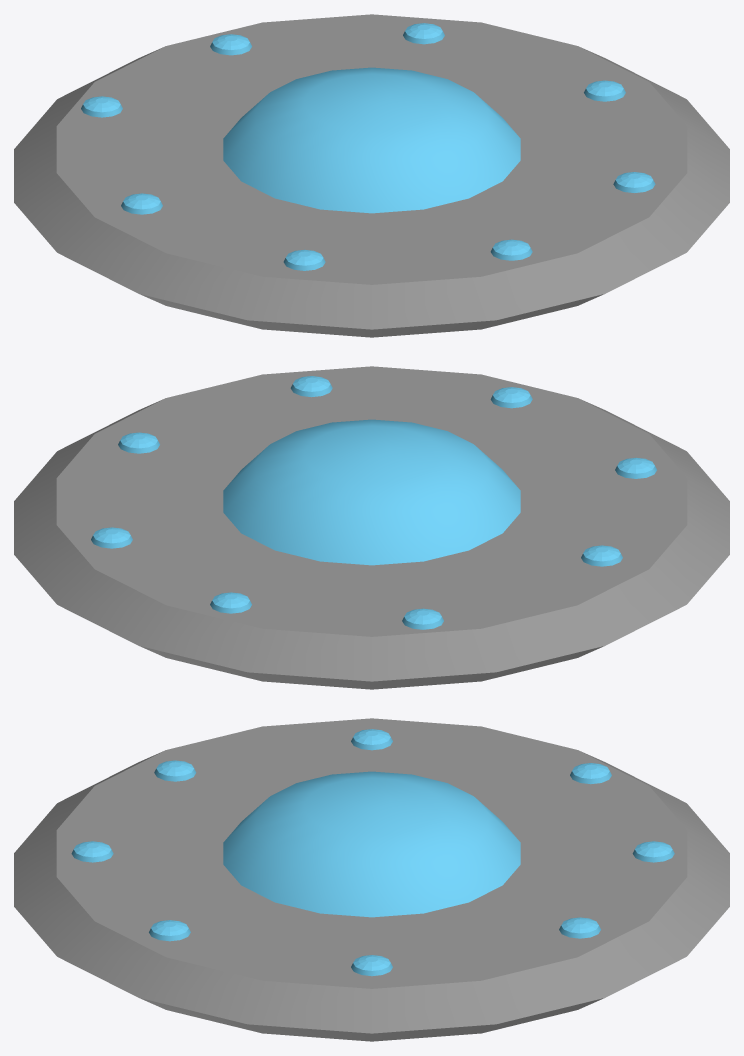
The model's file is ufo_1.FBX.
3 renders of one model, top to bottom at view 1: azimuth 30°, elevation 25°; view 2: azimuth 150°, elevation 25°; view 3: azimuth 270°, elevation 25°, orthographic.
Visible parts, largest first — view 1: UFO_1; view 2: UFO_1; view 3: UFO_1.
Boxes of the visible parts, x1=… form: UFO_1: x1=14, y1=14, x2=729, y2=337; UFO_1: x1=14, y1=366, x2=729, y2=689; UFO_1: x1=14, y1=718, x2=729, y2=1041.
Size of the model in its own units: 50 by 12 by 49.24.
1 material, 1 textured.
